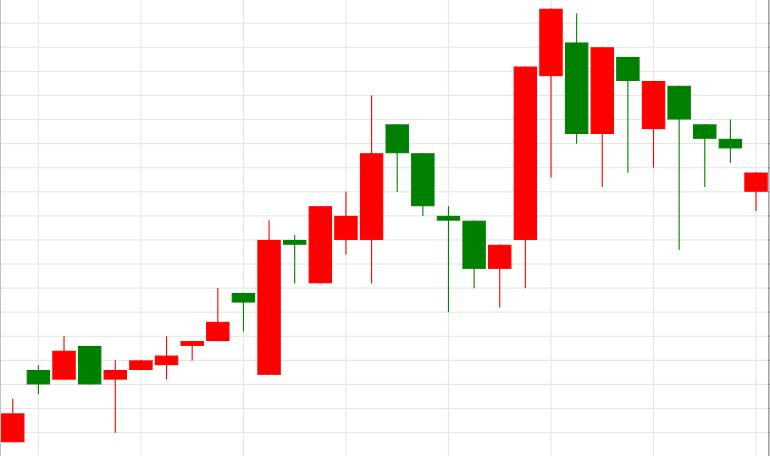hanging_man_fall: (257, 94, 408, 374)
